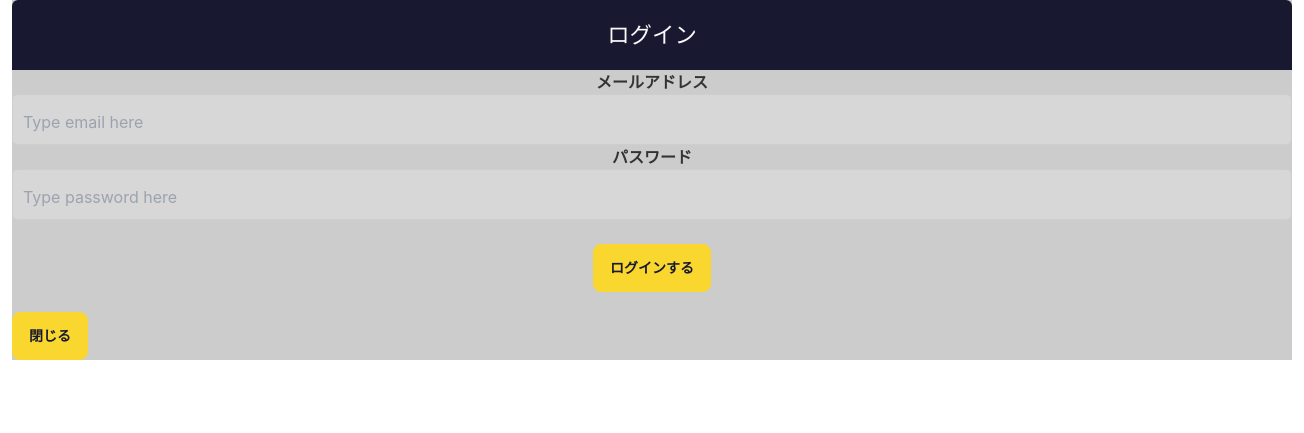
Test case: SignIn email › メールアドレスが空の場合、エラーメッセージを表示
Type "xxxx1111" into the password field with placeholder "Type password here" at (652, 194), box [12,169,1292,220]
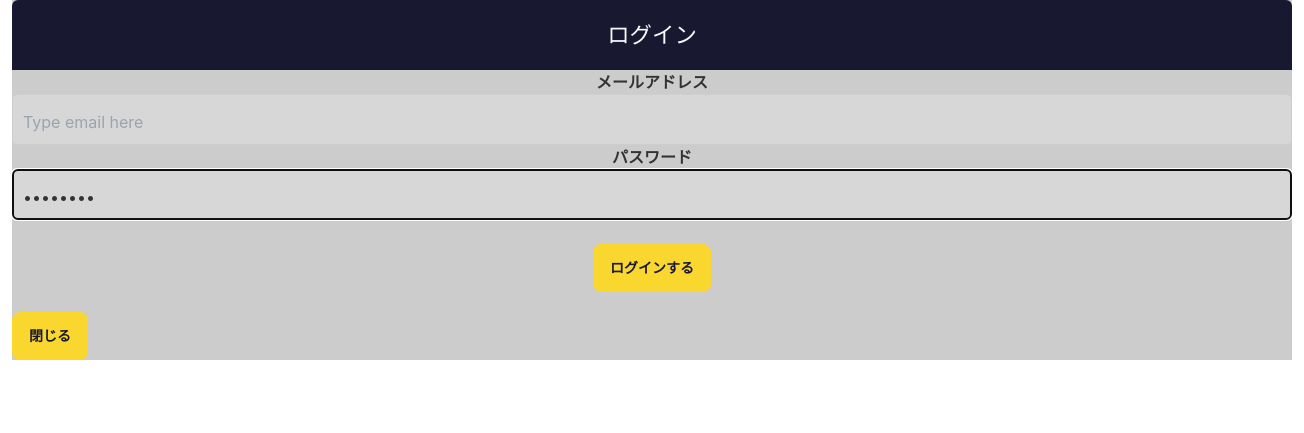
Click the button "ログインする" at (652, 268), box [593,244,711,292]
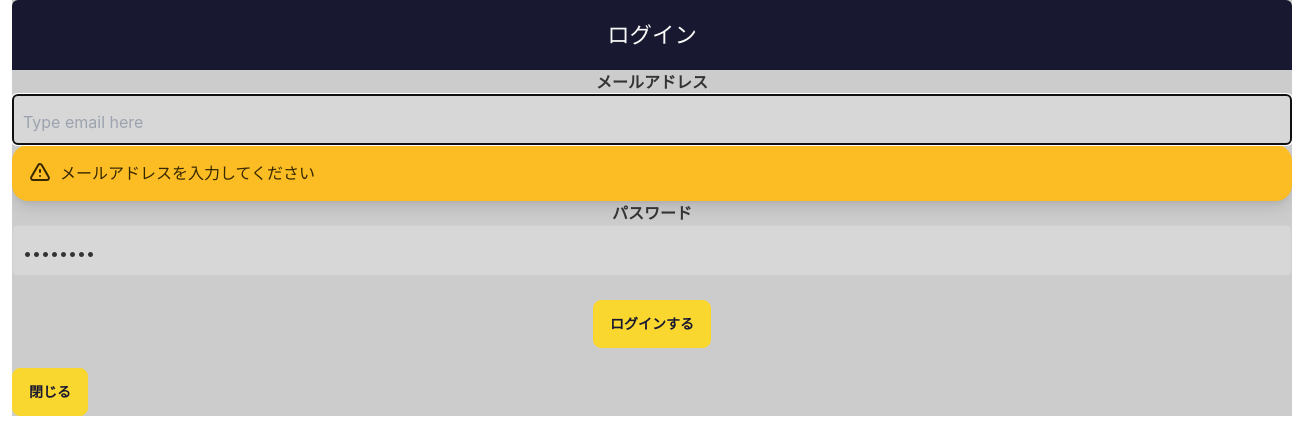
Expected: the text "メールアドレスを入力してください" is shown, [60,161,315,185]
